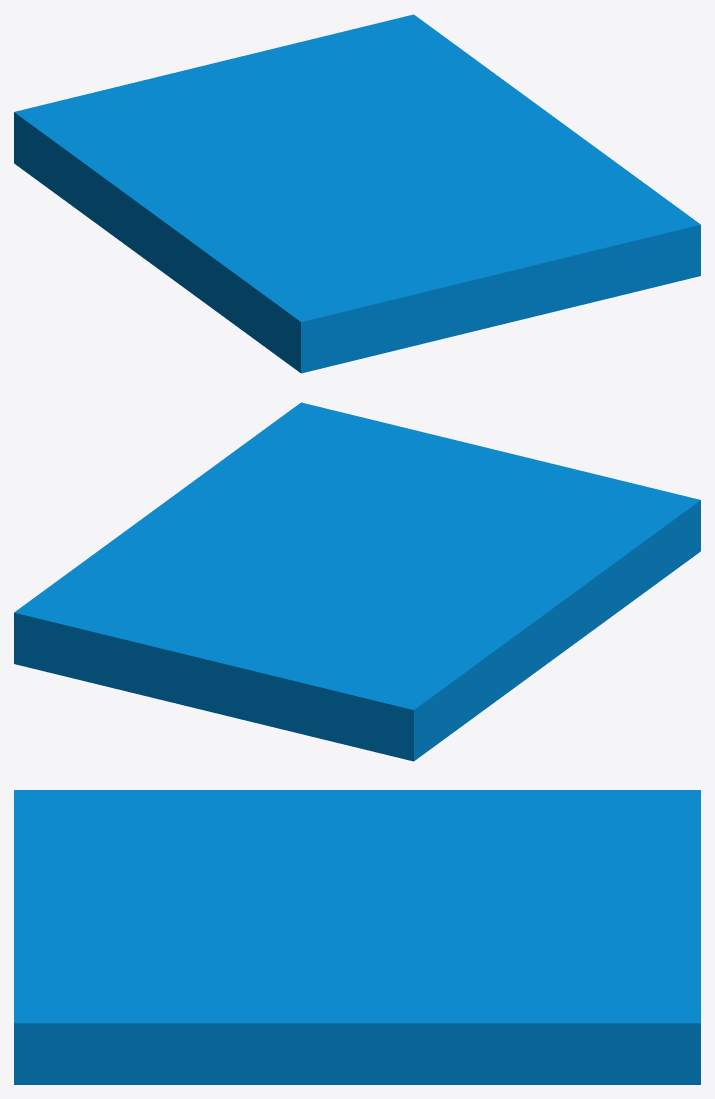
The model's file is Jigsaw_Color_010.fbx.
The picture shows the model from 3 angles, top to bottom: view 1: azimuth 30°, elevation 25°; view 2: azimuth 150°, elevation 25°; view 3: azimuth 270°, elevation 25°; orthographic projection. The views are drawn at different scales.
Parts seen in each view (by area): view 1: Jigsaw_Color_010; view 2: Jigsaw_Color_010; view 3: Jigsaw_Color_010.
Part boxes in pixels (x1,y1,x2,y2): Jigsaw_Color_010: [14, 14, 700, 373]; Jigsaw_Color_010: [14, 402, 700, 761]; Jigsaw_Color_010: [14, 790, 700, 1084].
Size of the model in its own units: 16.35 by 2.01 by 20.33.
